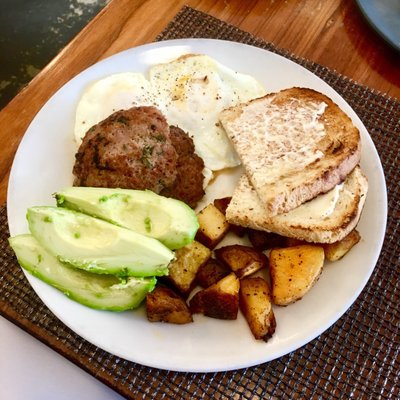soup: (219, 87, 367, 254)
